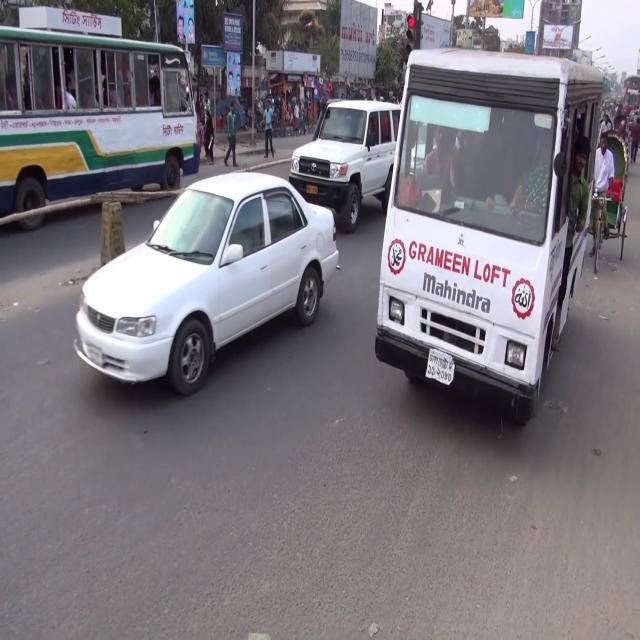white: (77, 163, 339, 397), (295, 95, 410, 233)
